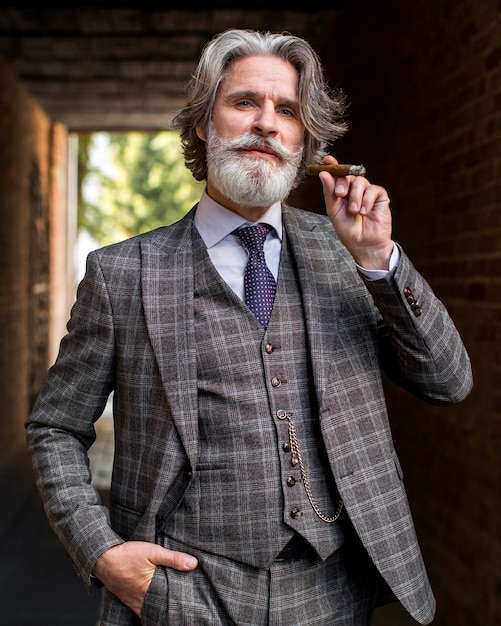cigarette: (305, 161, 364, 177)
